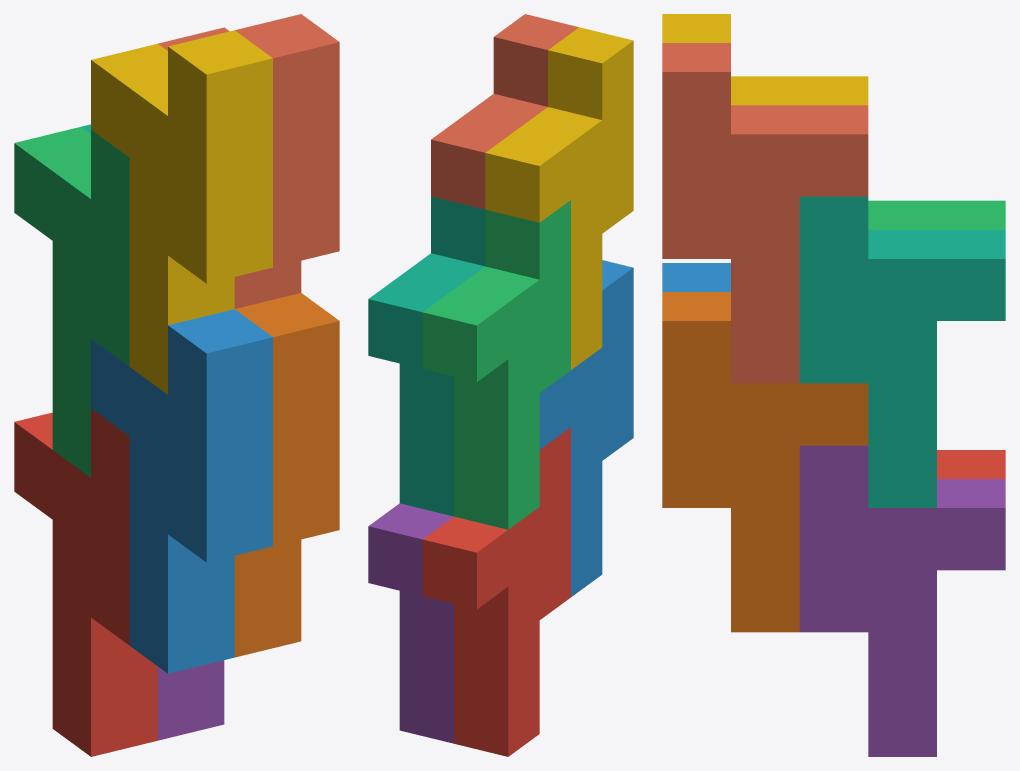
The model's file is tiling.obj.
3 views of the same model, side by side, from view 1: azimuth 30°, elevation 25°; view 2: azimuth 150°, elevation 25°; view 3: azimuth 270°, elevation 25° (orthographic). The views are drawn at different scales.
Parts seen in each view (by area): view 1: copy_1_domain_2, copy_1_domain_4, copy_1_domain_1, copy_1_domain_3, copy_1_domain_6, copy_1_domain_8, copy_1_domain_5; view 2: copy_1_domain_3, copy_1_domain_1, copy_1_domain_4, copy_1_domain_7, copy_1_domain_2, copy_1_domain_5, copy_1_domain_8; view 3: copy_1_domain_8, copy_1_domain_7, copy_1_domain_5, copy_1_domain_6, copy_1_domain_4, copy_1_domain_3, copy_1_domain_1, copy_1_domain_2.
Boxes of the visible parts, left/top/right/bottom form: copy_1_domain_2: left=91, top=309, right=272, bottom=673; copy_1_domain_4: left=91, top=30, right=272, bottom=394; copy_1_domain_1: left=14, top=408, right=157, bottom=756; copy_1_domain_3: left=14, top=127, right=129, bottom=477; copy_1_domain_6: left=234, top=293, right=339, bottom=657; copy_1_domain_8: left=158, top=14, right=339, bottom=308; copy_1_domain_5: left=157, top=660, right=224, bottom=740; copy_1_domain_3: left=422, top=200, right=570, bottom=529; copy_1_domain_1: left=422, top=427, right=570, bottom=756; copy_1_domain_4: left=485, top=27, right=633, bottom=369; copy_1_domain_7: left=368, top=196, right=485, bottom=516; copy_1_domain_2: left=539, top=260, right=633, bottom=596; copy_1_domain_5: left=368, top=503, right=453, bottom=743; copy_1_domain_8: left=431, top=14, right=578, bottom=209; copy_1_domain_8: left=662, top=43, right=868, bottom=383; copy_1_domain_7: left=799, top=196, right=1005, bottom=507; copy_1_domain_5: left=799, top=445, right=1005, bottom=756; copy_1_domain_6: left=662, top=292, right=868, bottom=632; copy_1_domain_4: left=662, top=14, right=868, bottom=105; copy_1_domain_3: left=868, top=200, right=1005, bottom=229; copy_1_domain_1: left=937, top=450, right=1005, bottom=478; copy_1_domain_2: left=662, top=263, right=730, bottom=291.
Size of the model in its own units: 2 by 11 by 5.
